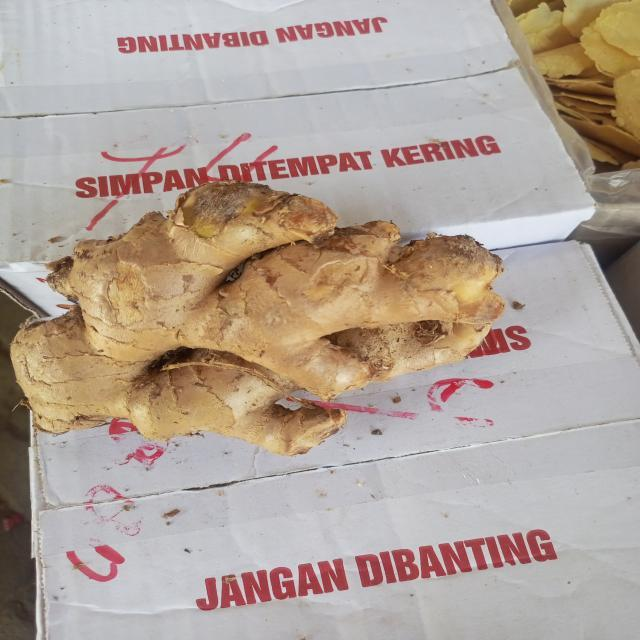ginger: (12, 184, 492, 447)
